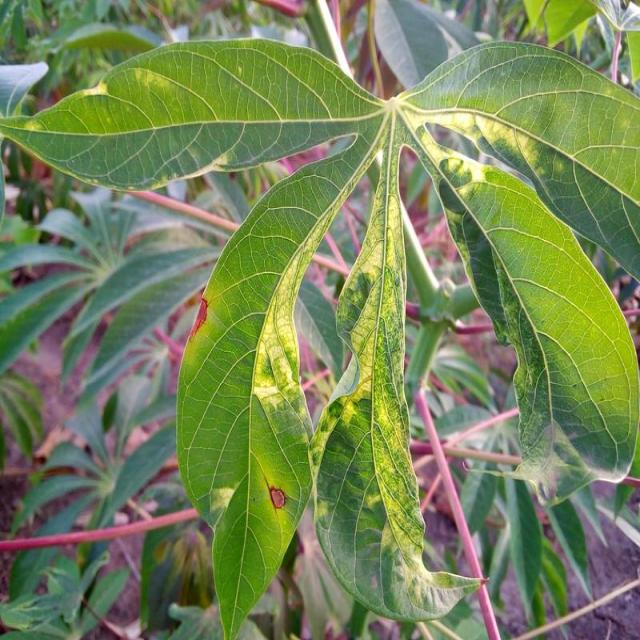cassava leaf: (1, 31, 638, 629), (174, 106, 388, 636), (0, 35, 389, 192)
